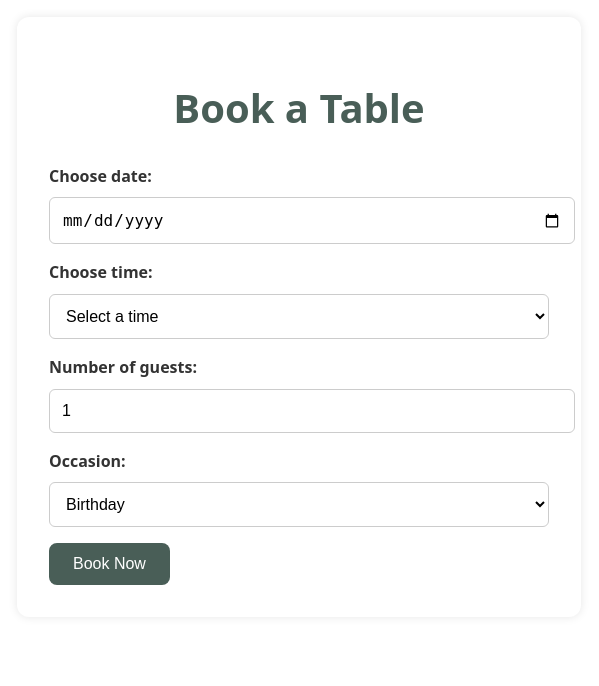
Scenario: BookingForm › shows error if date is missing on submit
This screenshot has width=599, height=686.
Click the button "Book Now". click: (109, 564)
box: [49,543,170,585]
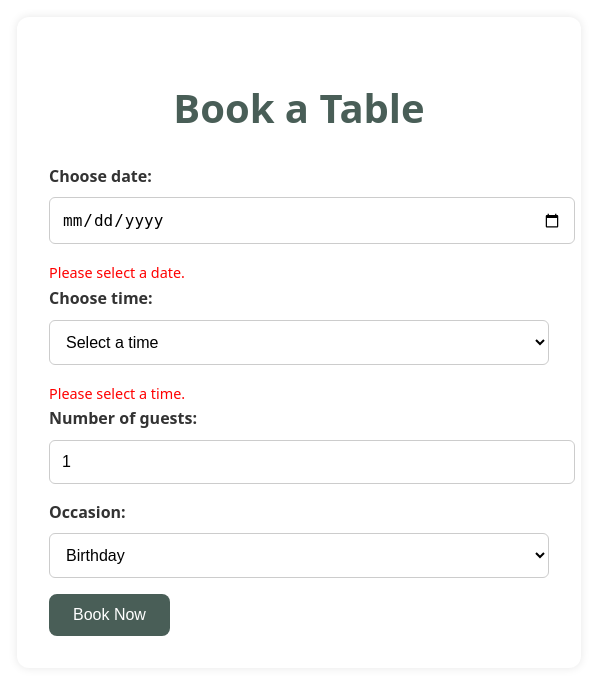
Now the text "Please select a date." is shown, box [49,263,185,282]
